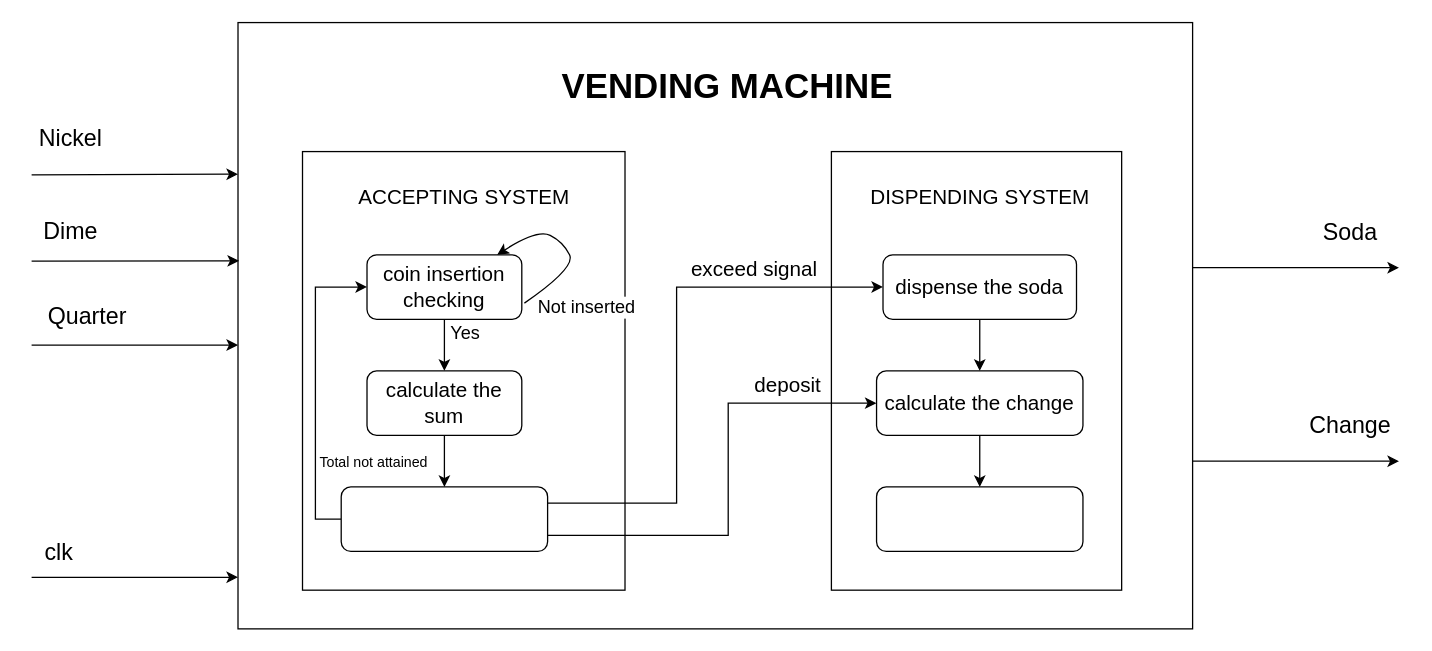
The diagram is 1432 pixels wide and 651 high, and some of its shapes have lost their labels. Here are the shapes that lost their labels. From the top down, the box of each, then its label:
(340, 486, 548, 551): checking of the total amount required
(875, 486, 1083, 551): refund the change (if nessesarry)
